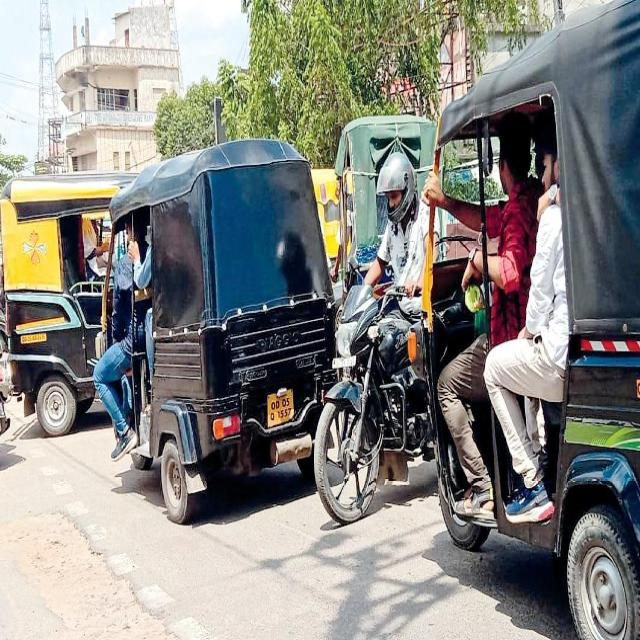autorickshaw: (421, 0, 640, 638), (94, 139, 335, 524), (0, 175, 129, 434)
motorcycle: (315, 151, 430, 524)
